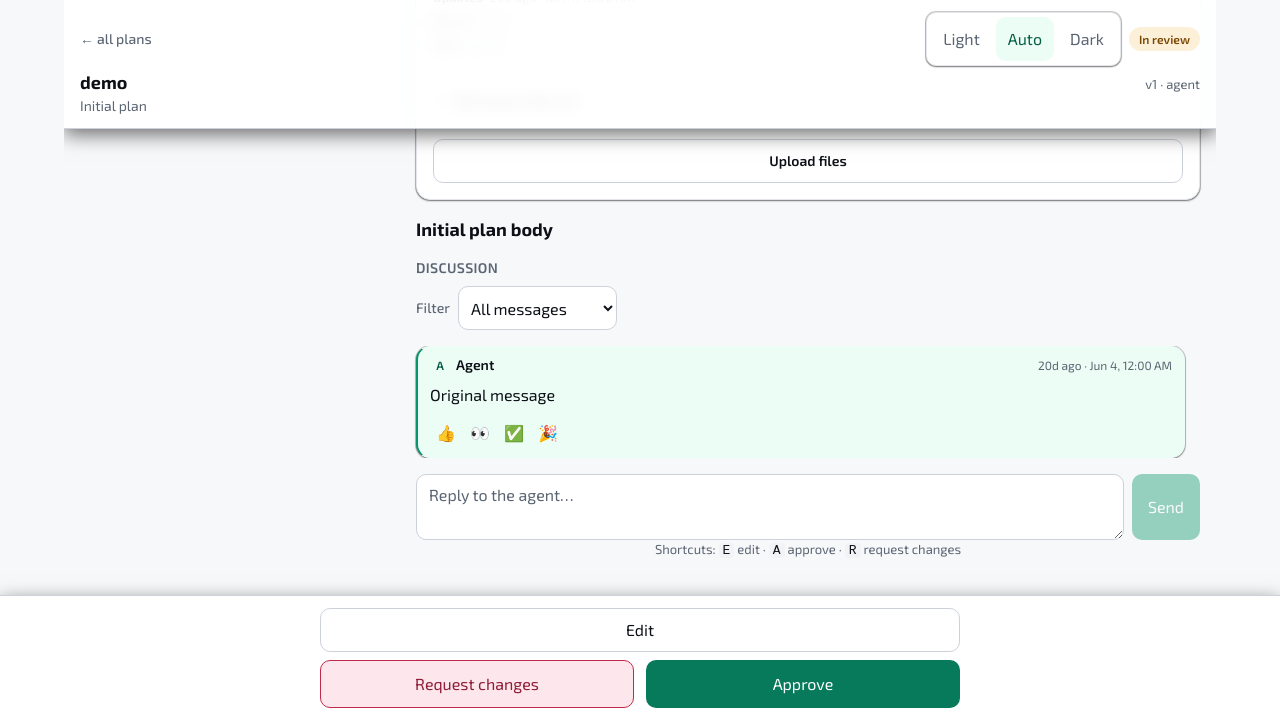
Scenario: WorkspacePage keyboard shortcuts › shortcuts do nothing while typing in the reply box
(page scrolled)
Expected: the text "Original message" is shown, [430,385,555,404]
Click the text box with placeholder "Reply to the agent…" at (770, 507), box [416,474,1124,540]
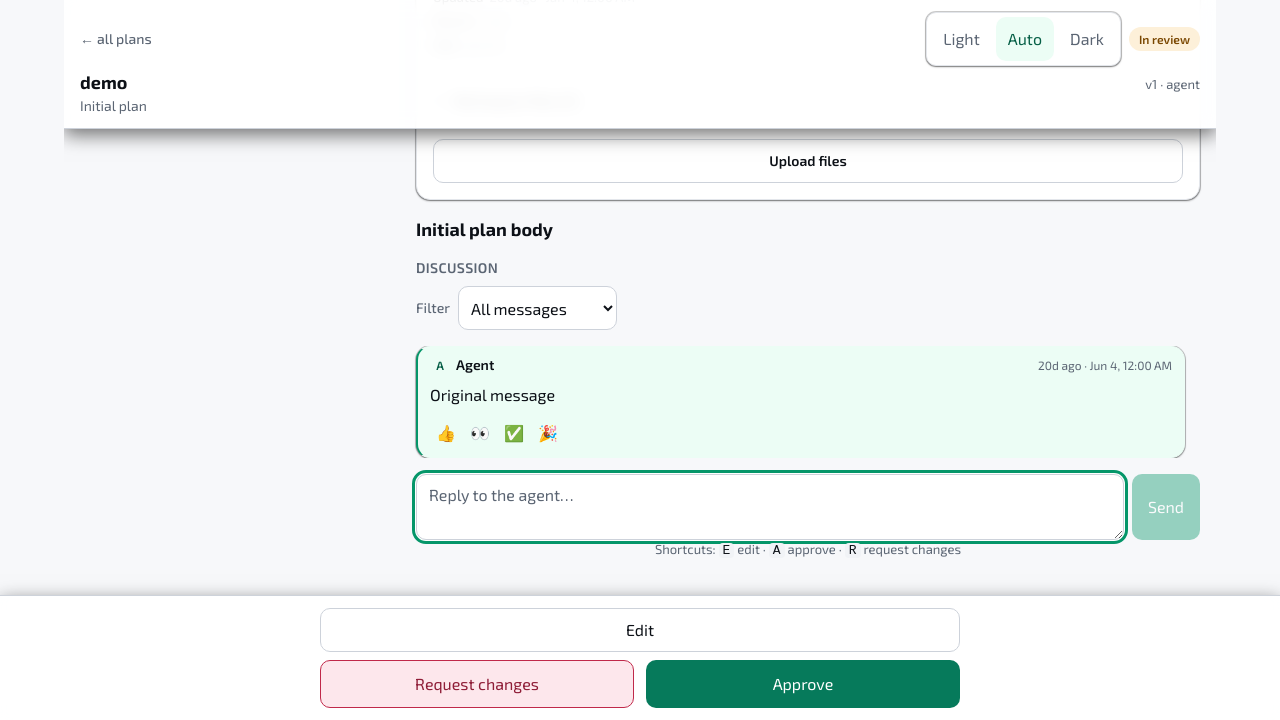
Type keys "eat the api"
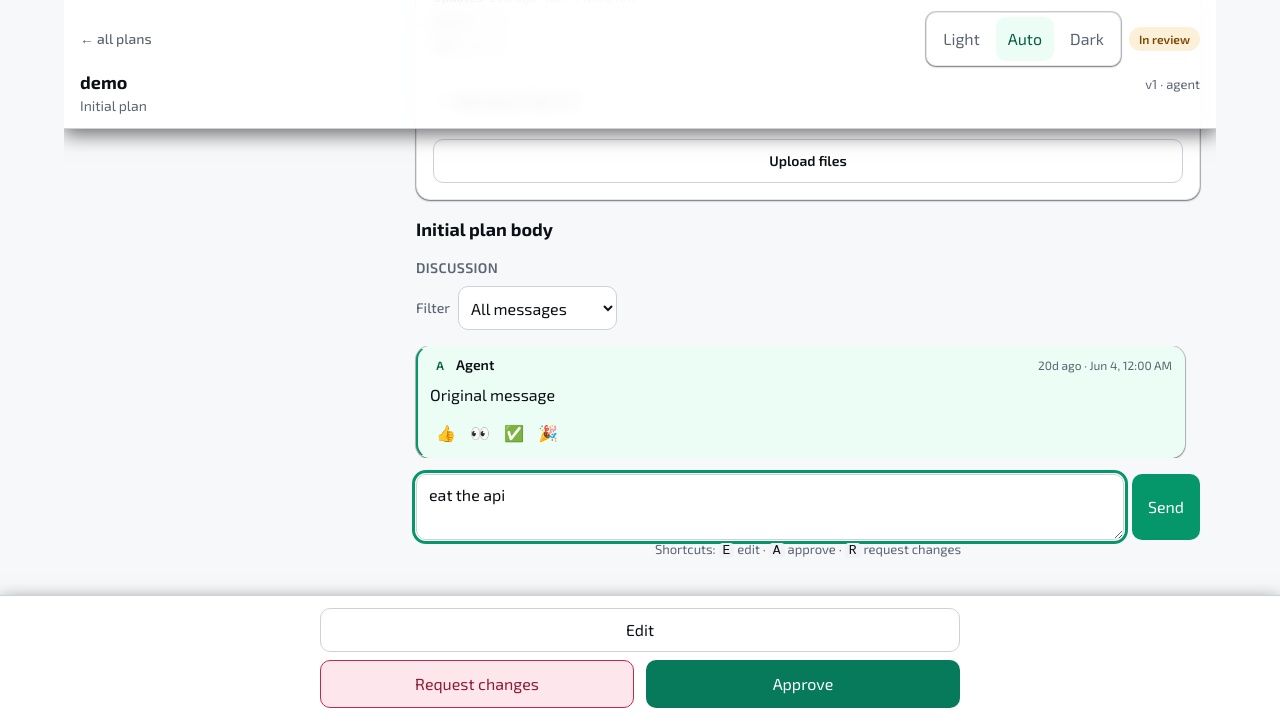
Expected: the text box with placeholder "Reply to the agent…" holds "eat the api", [416,474,1124,540]
